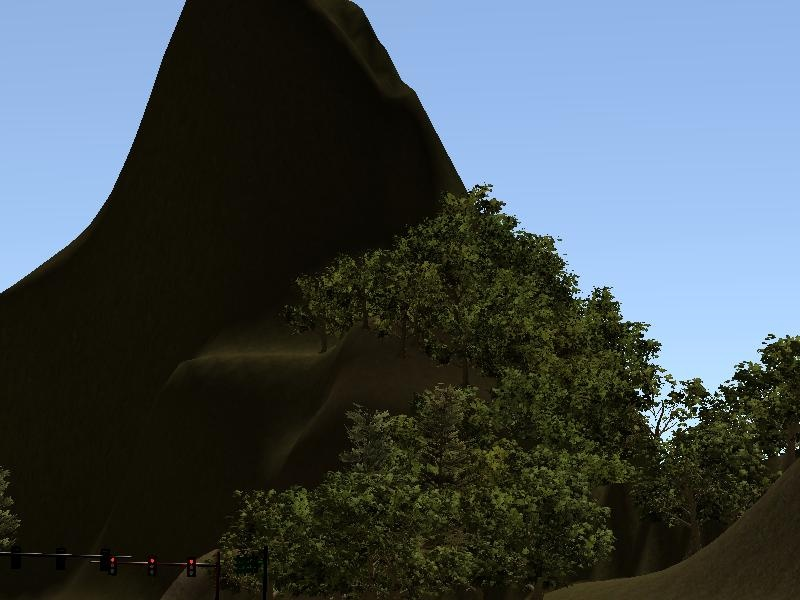Red: (147, 555, 158, 577), (186, 557, 197, 578), (108, 556, 117, 577)
